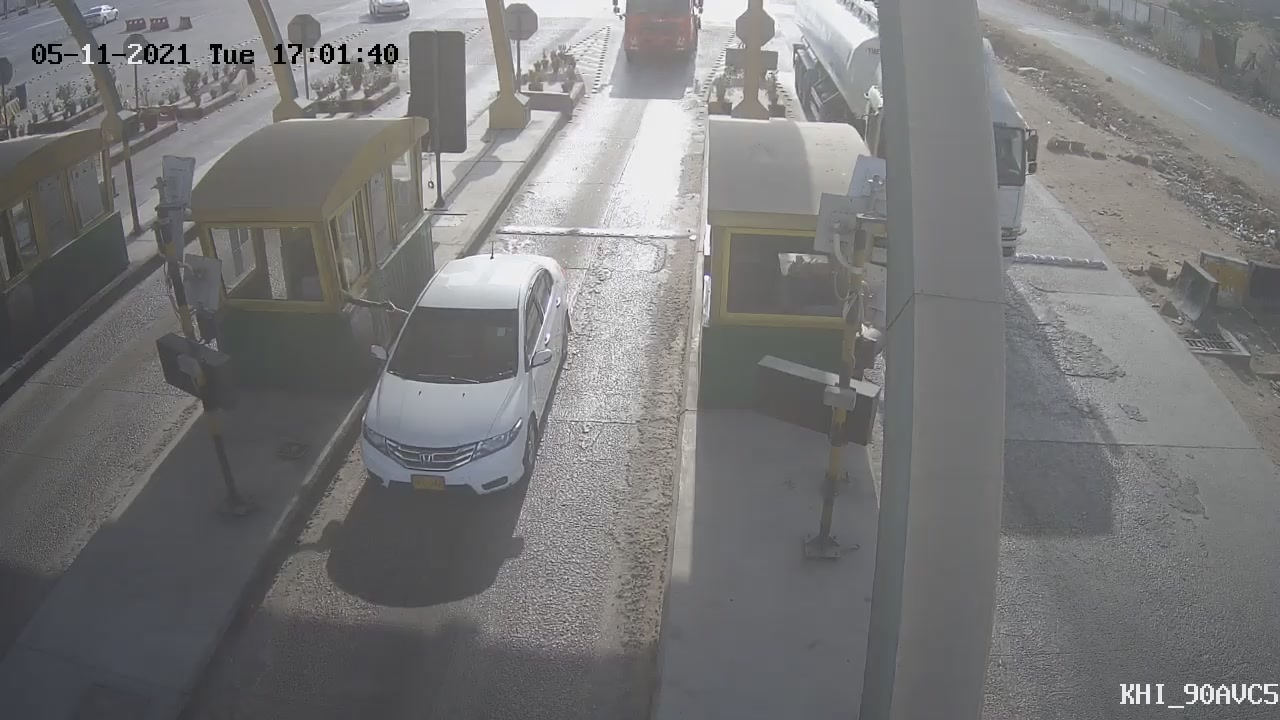F1: (327, 230, 599, 529)
